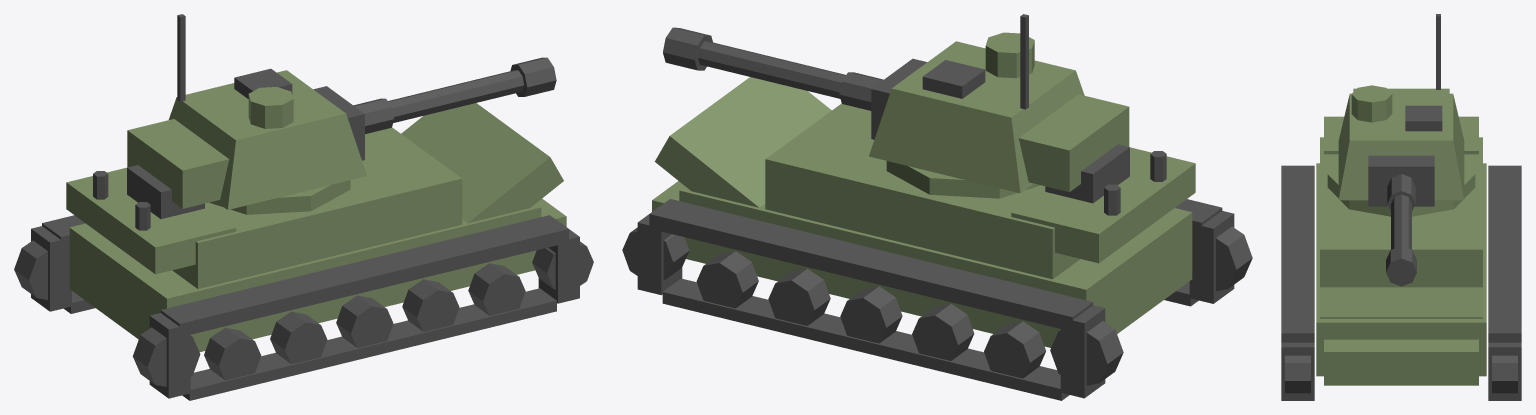
Rendered from placeholder_tank.glb.
3 renders of one model, left to right at view 1: azimuth 30°, elevation 25°; view 2: azimuth 150°, elevation 25°; view 3: azimuth 270°, elevation 25°, orthographic. The views are drawn at different scales.
Visible parts, largest first — view 1: Tank, accent_Tank, accent_pivot_TankGun, accent_wheel_-0.28_3, accent_wheel_-0.28_1, accent_wheel_-0.28_2, accent_wheel_-0.28_4, accent_wheel_-0.28_0, accent_wheel_-0.28_5, accent_wheel_0.28_5, accent_wheel_-0.28_6; view 2: Tank, accent_Tank, accent_pivot_TankGun, accent_wheel_0.28_3, accent_wheel_0.28_4, accent_wheel_0.28_0, accent_wheel_0.28_1, accent_wheel_0.28_2, accent_wheel_0.28_5, accent_wheel_-0.28_5, accent_wheel_0.28_6; view 3: Tank, accent_Tank, accent_pivot_TankGun, accent_wheel_0.28_6, accent_wheel_-0.28_6.
Part boxes in pixels (x1,y1,x2,y2): Tank: [66, 70, 566, 352]; accent_Tank: [31, 14, 579, 400]; accent_pivot_TankGun: [313, 57, 556, 160]; accent_wheel_-0.28_3: [402, 279, 459, 331]; accent_wheel_-0.28_1: [270, 311, 327, 364]; accent_wheel_-0.28_2: [336, 295, 393, 347]; accent_wheel_-0.28_4: [468, 263, 525, 315]; accent_wheel_-0.28_0: [204, 327, 261, 380]; accent_wheel_-0.28_5: [132, 327, 200, 386]; accent_wheel_0.28_5: [14, 240, 47, 299]; accent_wheel_-0.28_6: [532, 241, 593, 289]; Tank: [652, 32, 1195, 347]; accent_Tank: [637, 14, 1234, 400]; accent_pivot_TankGun: [663, 27, 927, 139]; accent_wheel_0.28_3: [768, 268, 830, 325]; accent_wheel_0.28_4: [696, 251, 758, 308]; accent_wheel_0.28_0: [984, 321, 1045, 378]; accent_wheel_0.28_1: [912, 304, 974, 360]; accent_wheel_0.28_2: [840, 286, 902, 343]; accent_wheel_0.28_5: [1050, 321, 1123, 385]; accent_wheel_-0.28_5: [1216, 226, 1252, 291]; accent_wheel_0.28_6: [622, 227, 689, 279]; Tank: [1316, 85, 1486, 385]; accent_Tank: [1281, 14, 1521, 400]; accent_pivot_TankGun: [1368, 155, 1434, 286]; accent_wheel_0.28_6: [1492, 355, 1517, 393]; accent_wheel_-0.28_6: [1285, 355, 1310, 393].
Size of the model in its own units: 1.27 by 0.782 by 0.65.
